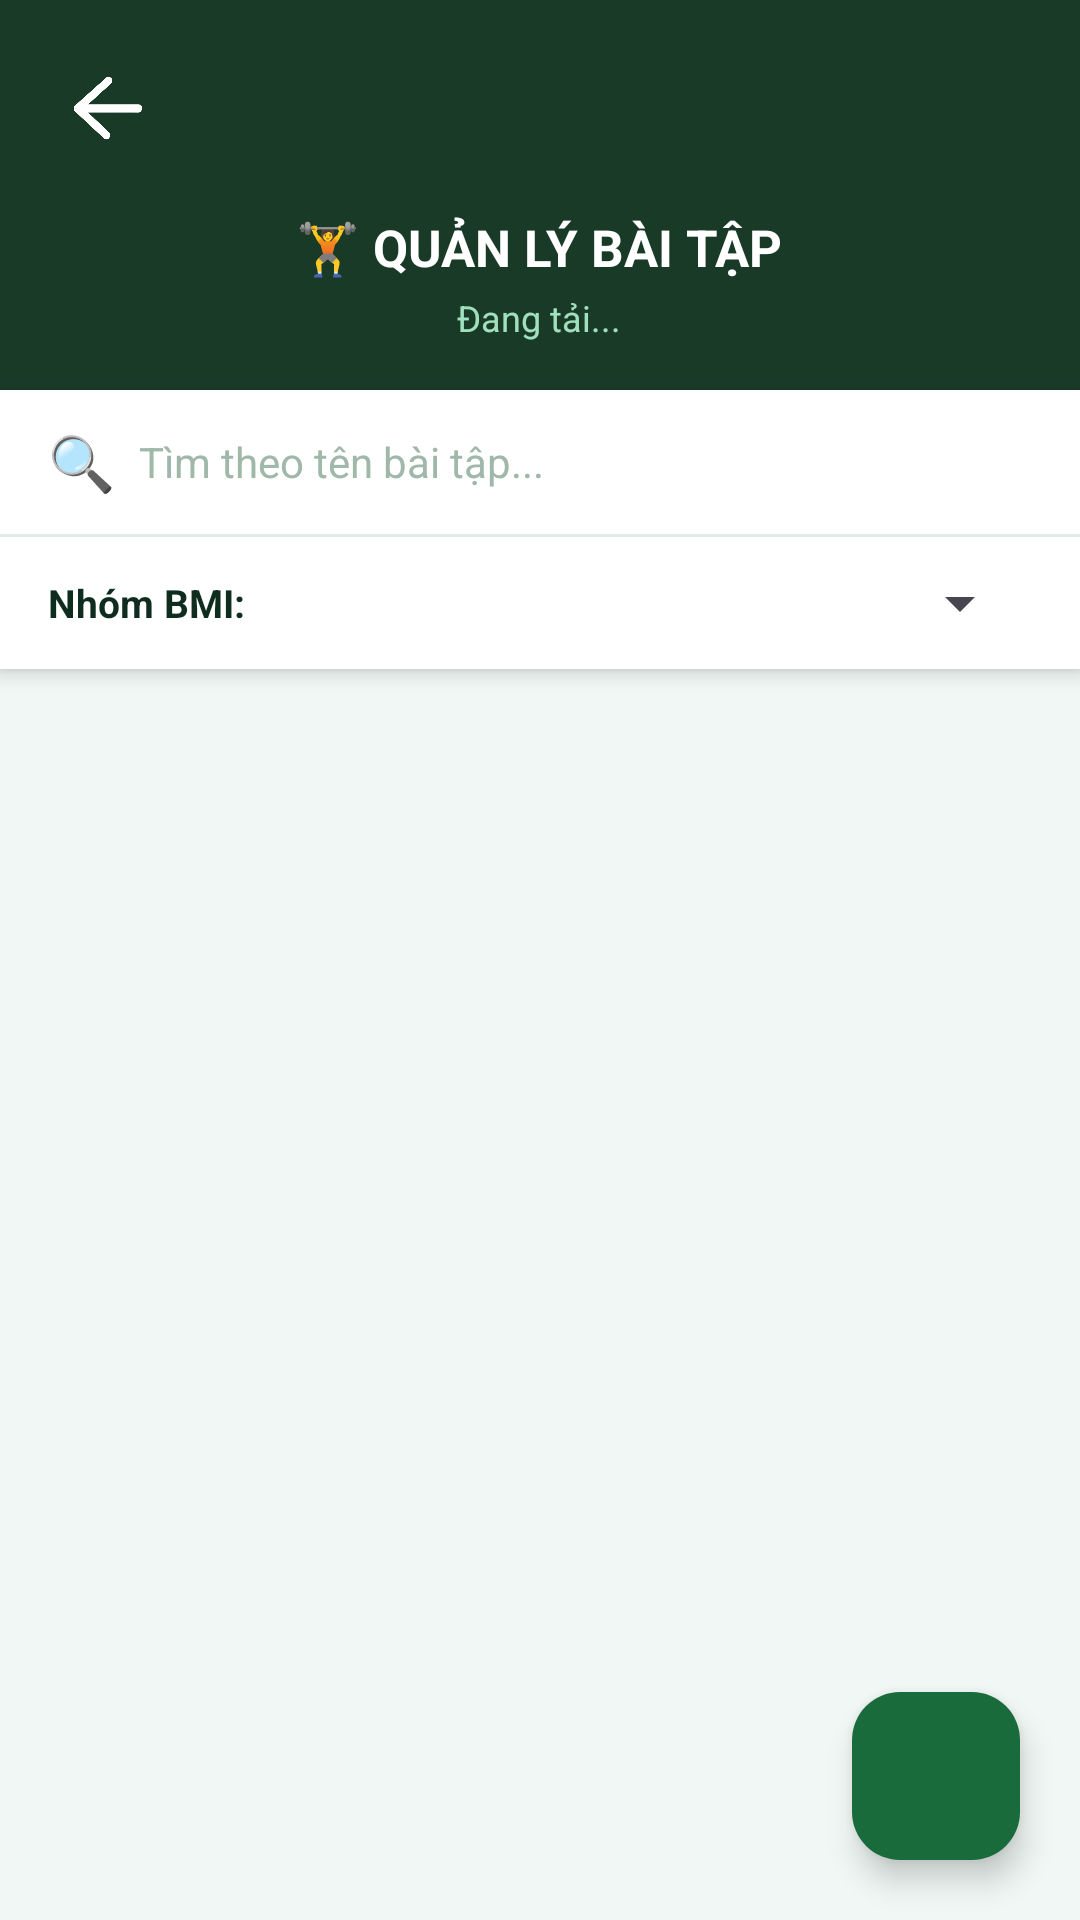

Named icons in this screenshot (1080 x 1920) and their centers, [x,y]:
arrow back: [108,108]
